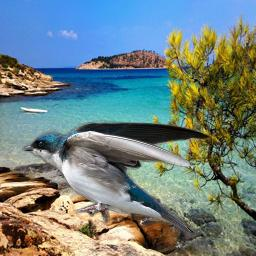Swallow: (22, 119, 212, 236)
